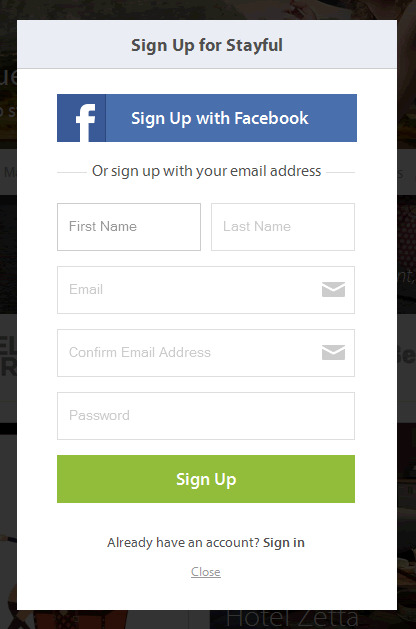_form_: (1, 151, 416, 567)
button: (56, 453, 356, 504)
field: (56, 391, 355, 441), (56, 328, 354, 378), (56, 266, 355, 314), (57, 202, 202, 252), (211, 202, 355, 252)
